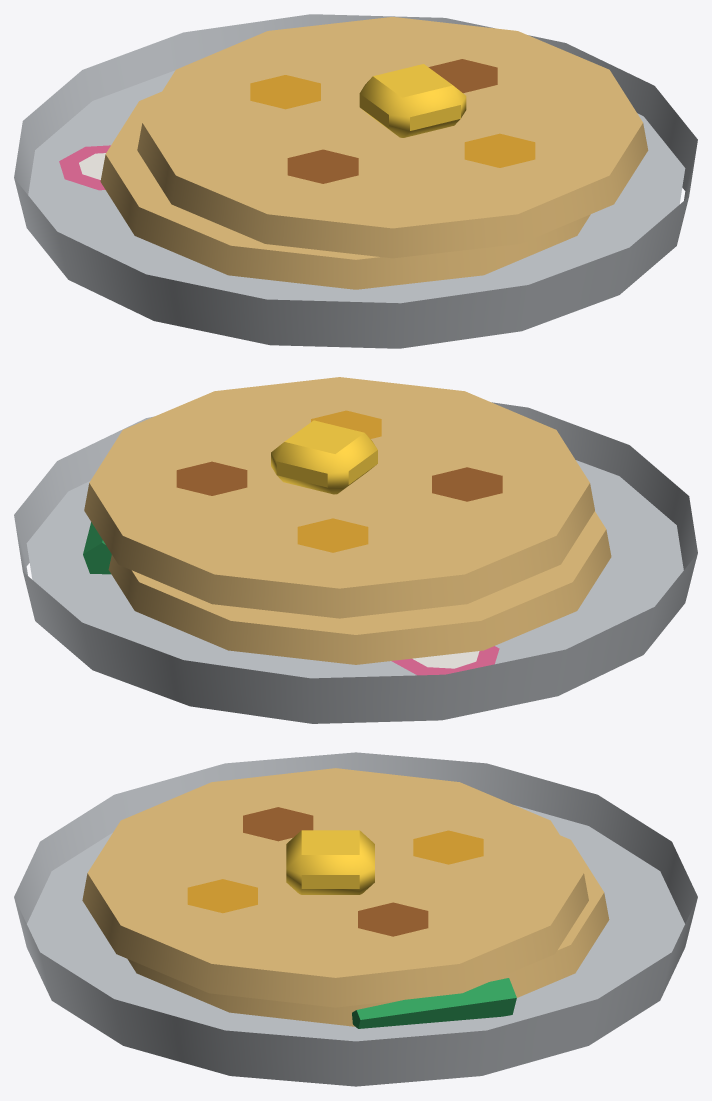
The model's file is pass_roti.glb.
3 renders of one model, top to bottom at view 1: azimuth 30°, elevation 25°; view 2: azimuth 150°, elevation 25°; view 3: azimuth 270°, elevation 25°, orthographic.
Parts seen in each view (by area): view 1: pass_roti; view 2: pass_roti; view 3: pass_roti.
Boxes of the visible parts, x1,y1,x2,y2 form: pass_roti: [14, 14, 697, 348]; pass_roti: [14, 377, 697, 723]; pass_roti: [14, 752, 697, 1086].
Bounding box in the file's own units: 0.27 × 0.055 × 0.27.
Materials: 1 (1 with a texture image).
